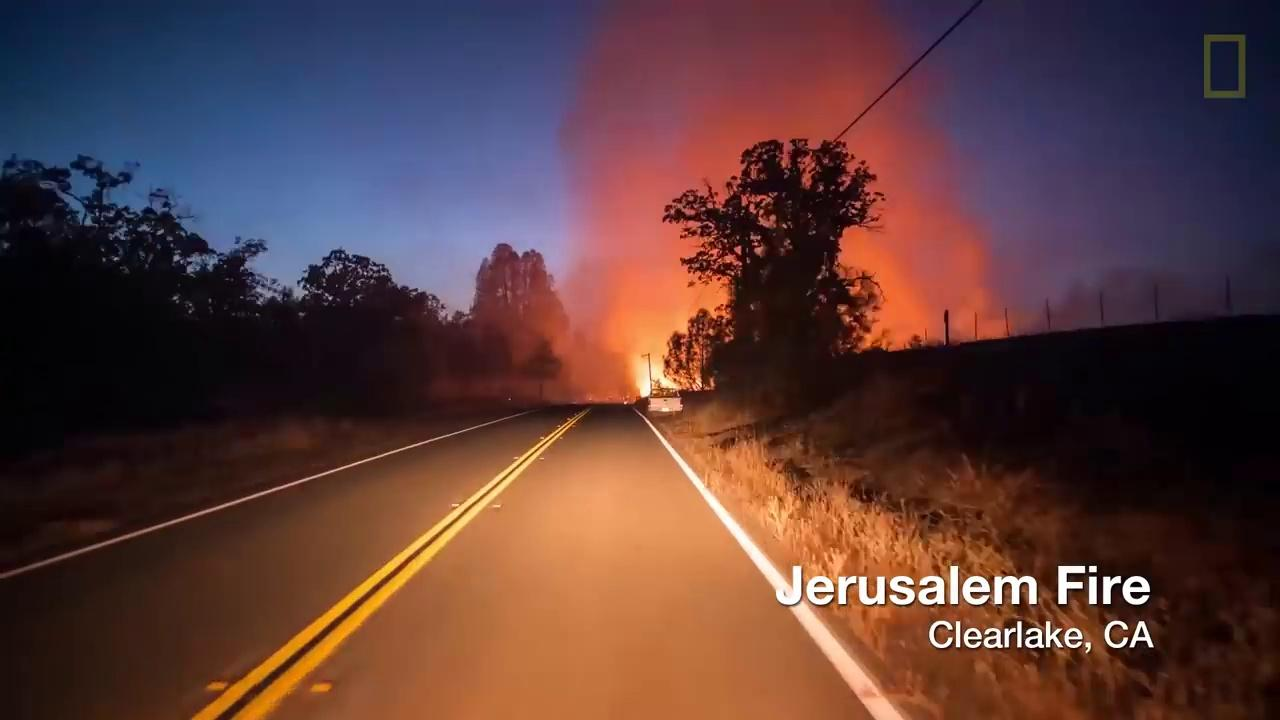Fire: (629, 354, 685, 392)
